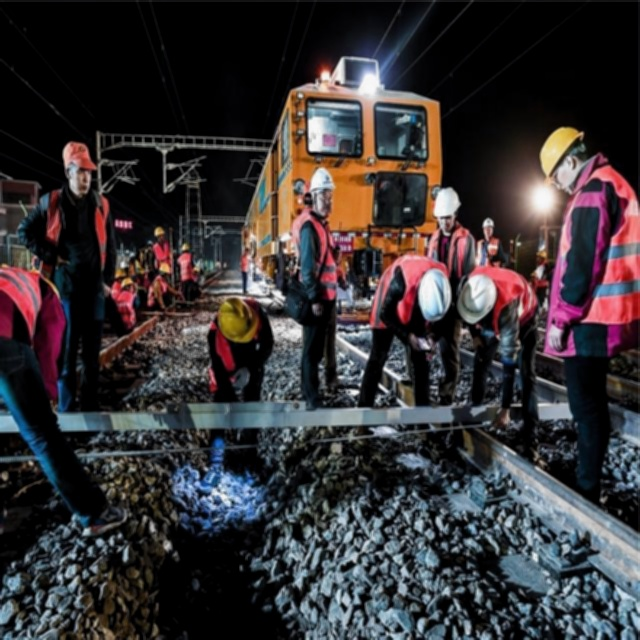Con_Casco: (540, 125, 583, 195), (418, 264, 452, 323), (458, 272, 495, 325), (220, 297, 258, 348), (432, 188, 460, 235), (310, 167, 333, 217)
Con_Chaleco: (556, 174, 639, 324), (37, 190, 114, 294), (291, 216, 337, 306)
Sin_Casco_Mascarrilla: (61, 141, 96, 191)
